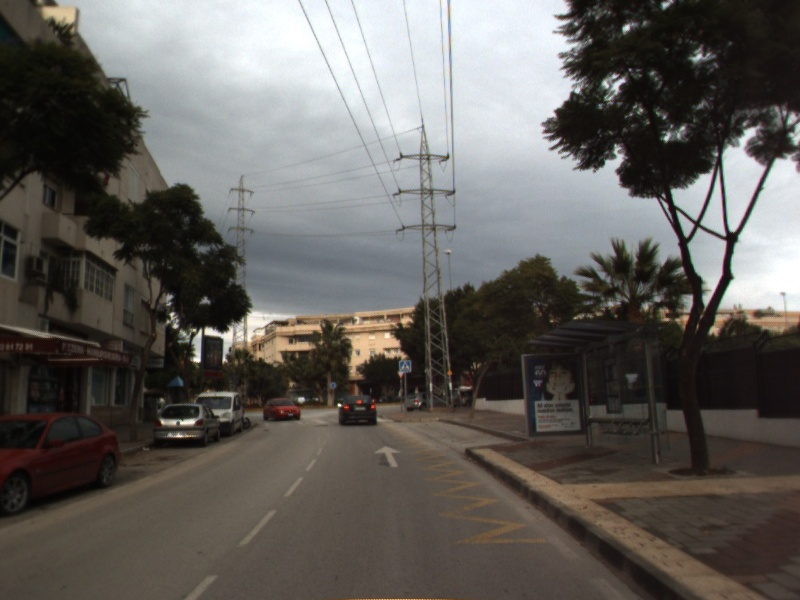STRAIGHT: (372, 443, 404, 469)
